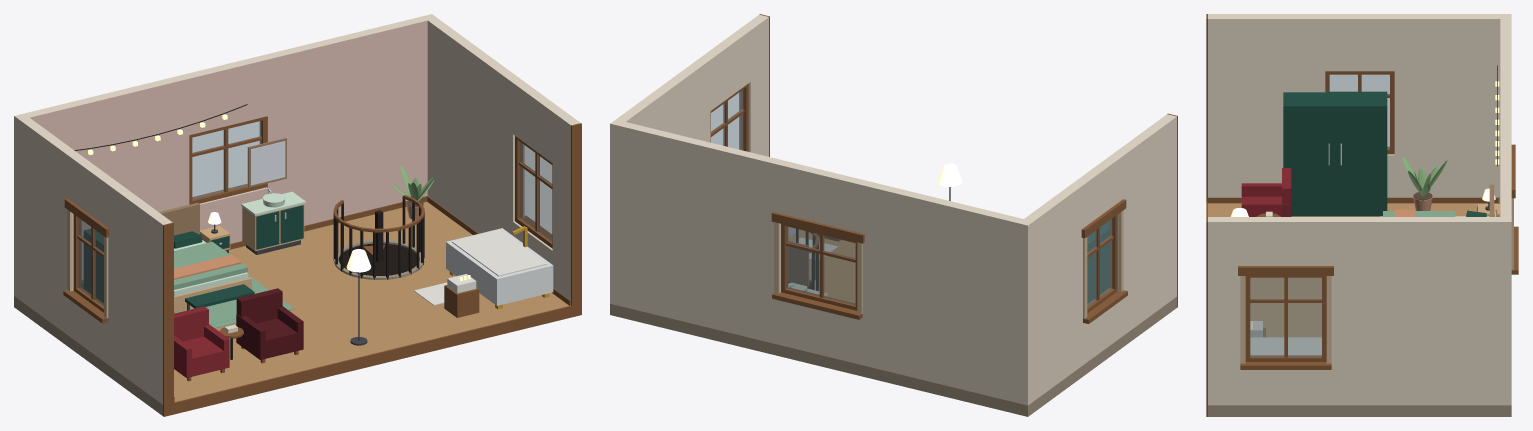
File: map-master.glb
The picture shows the model from 3 angles, left to right: view 1: azimuth 30°, elevation 25°; view 2: azimuth 150°, elevation 25°; view 3: azimuth 270°, elevation 25°; orthographic projection.
Visible parts, largest first — view 1: Walls, Floor_Slab, Bathtub, Windows_Glass, Window_Nook, Bed, Stairwell_Down, Vanity, Mirror, Wardrobe, Bedroom_Rug, Bed_Bench (+3 smaller); view 2: Walls, Floor_Slab, Windows_Glass, Wardrobe, Mirror, Stairwell_Down; view 3: Walls, Wardrobe, Floor_Slab, Windows_Glass, Window_Nook, Bathtub, Plant_Loft_A, Bed.
Boxes of the visible parts, bbox=[...] form: Walls: bbox=[14, 14, 581, 416]; Floor_Slab: bbox=[14, 201, 568, 415]; Bathtub: bbox=[414, 226, 553, 317]; Windows_Glass: bbox=[78, 121, 552, 305]; Window_Nook: bbox=[174, 288, 303, 381]; Bed: bbox=[159, 202, 251, 313]; Stairwell_Down: bbox=[333, 195, 424, 279]; Vanity: bbox=[241, 188, 305, 254]; Mirror: bbox=[247, 138, 286, 187]; Wardrobe: bbox=[83, 229, 103, 303]; Bedroom_Rug: bbox=[176, 275, 294, 328]; Bed_Bench: bbox=[185, 284, 254, 310]; Walls: bbox=[610, 14, 1177, 405]; Floor_Slab: bbox=[610, 229, 1176, 416]; Windows_Glass: bbox=[711, 90, 1112, 306]; Wardrobe: bbox=[1087, 221, 1109, 303]; Mirror: bbox=[788, 241, 809, 286]; Stairwell_Down: bbox=[788, 228, 818, 290]; Walls: bbox=[1206, 14, 1518, 416]; Wardrobe: bbox=[1283, 91, 1387, 216]; Floor_Slab: bbox=[1208, 202, 1511, 416]; Windows_Glass: bbox=[1250, 74, 1389, 356]; Window_Nook: bbox=[1241, 168, 1291, 216]; Bathtub: bbox=[1250, 321, 1321, 355]; Plant_Loft_A: bbox=[1402, 156, 1447, 210]; Bed: bbox=[1380, 184, 1494, 216].
Bounding box in the file's own units: 8.74 × 3.72 × 5.4.
